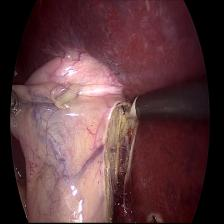Grasper: (11, 87, 21, 127)
Hook: (120, 94, 138, 130)
